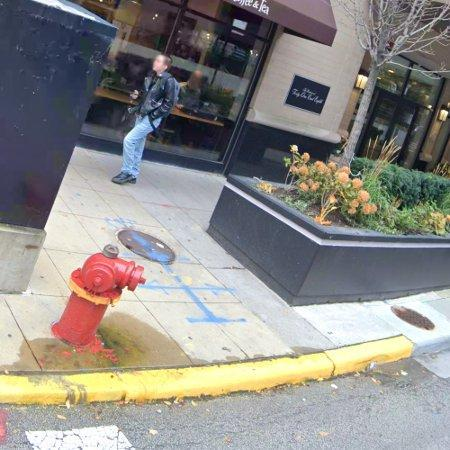a fire hydrant: (51, 245, 146, 346)
